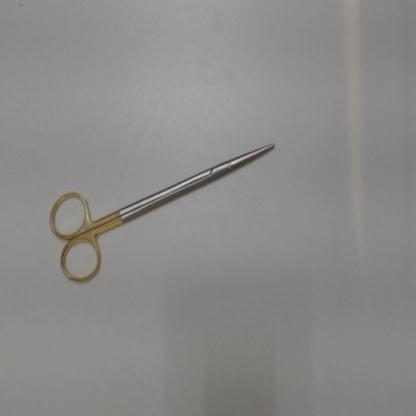7 Metzenbaum Scissors: (47, 141, 279, 290)
